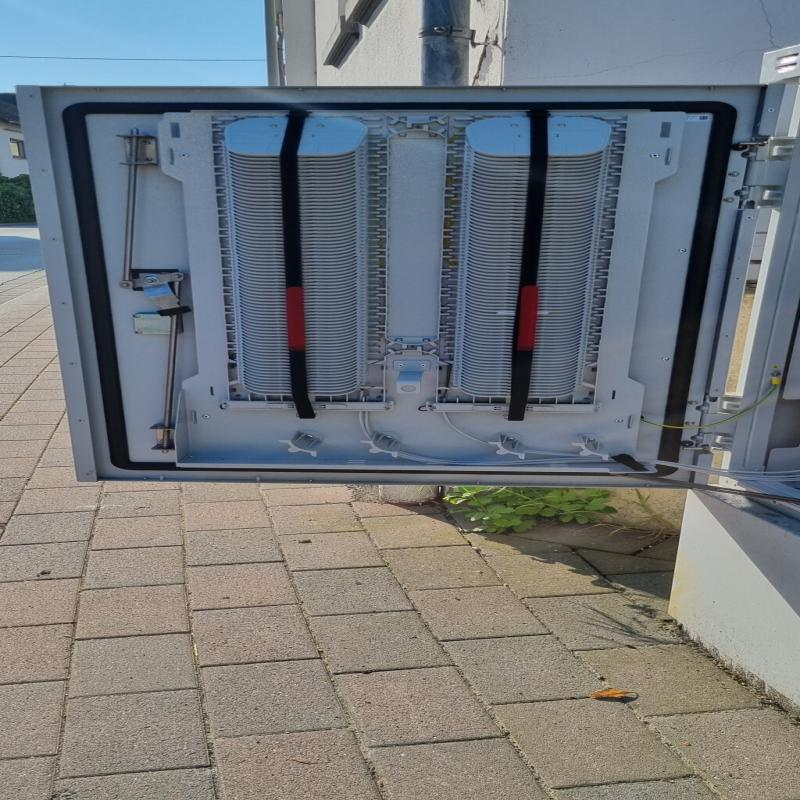NT-Gehause: (12, 43, 800, 712)
Spleiskassetten: (184, 115, 402, 415), (434, 115, 638, 415)
